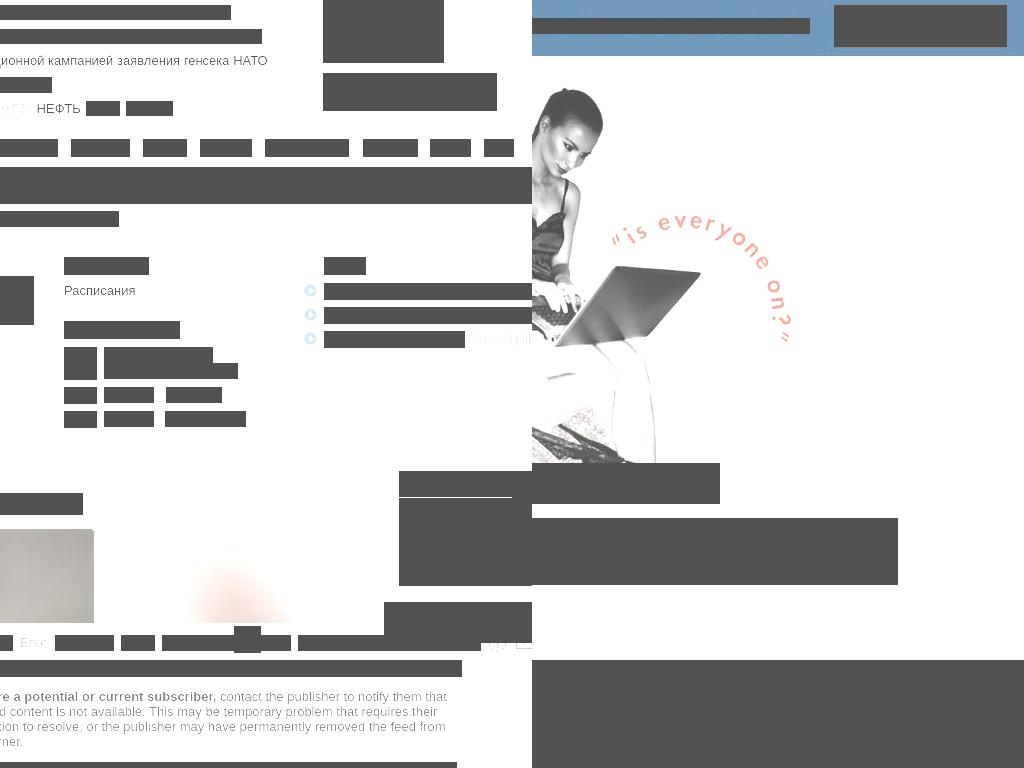button: (532, 66, 1024, 650), (532, 660, 1024, 768), (323, 0, 444, 63), (834, 5, 1007, 47), (323, 73, 497, 111), (384, 602, 532, 643), (840, 16, 1001, 36), (449, 167, 532, 204), (298, 635, 481, 651), (324, 331, 466, 348), (162, 635, 291, 651), (324, 283, 416, 300), (265, 139, 349, 157), (71, 139, 130, 157), (0, 139, 58, 157), (363, 139, 418, 157), (55, 635, 114, 651), (200, 139, 252, 157), (324, 307, 379, 324), (143, 139, 187, 157), (430, 139, 471, 157), (121, 635, 155, 651), (484, 139, 514, 157), (19, 635, 47, 651), (0, 635, 13, 651)
field: (0, 167, 449, 204)
heading: (532, 518, 898, 585), (0, 660, 462, 677), (323, 74, 497, 91), (323, 93, 482, 110), (64, 321, 180, 339), (64, 257, 111, 275), (324, 257, 366, 275), (111, 257, 149, 275)
image: (563, 660, 1024, 768), (323, 0, 444, 59), (324, 283, 532, 299), (324, 307, 532, 323), (324, 331, 532, 347), (411, 167, 438, 204), (234, 626, 261, 653)
link: (379, 307, 532, 324), (104, 363, 238, 379), (416, 283, 532, 300), (104, 347, 213, 363), (165, 411, 246, 427), (465, 331, 532, 348), (64, 283, 135, 299), (166, 387, 222, 403), (104, 387, 154, 403), (104, 411, 154, 427), (36, 101, 81, 116)
text: (532, 66, 1024, 650), (0, 689, 447, 750), (399, 498, 532, 586), (532, 463, 720, 504), (0, 53, 268, 68), (0, 29, 262, 44), (0, 5, 231, 20), (399, 471, 532, 497), (0, 689, 216, 705), (532, 18, 747, 34), (449, 167, 528, 204), (324, 331, 458, 348), (0, 493, 83, 515), (324, 283, 408, 300), (64, 347, 97, 380), (745, 18, 810, 34), (0, 762, 172, 768), (24, 211, 83, 227), (0, 77, 52, 93), (324, 307, 371, 324), (82, 211, 119, 227), (64, 387, 97, 404), (64, 411, 97, 428), (86, 101, 120, 116), (126, 101, 160, 116), (0, 211, 24, 227), (159, 101, 173, 116), (5, 284, 10, 300)
